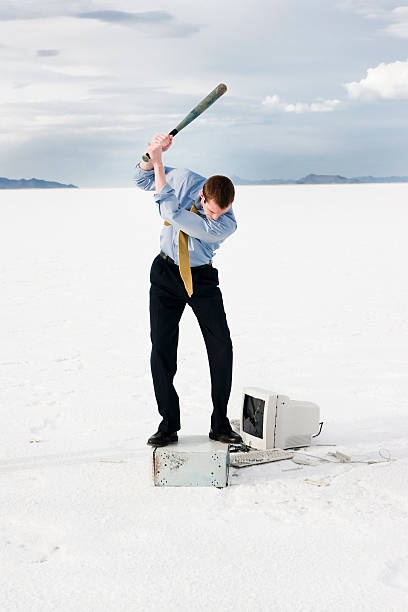bita: (168, 81, 228, 134)
